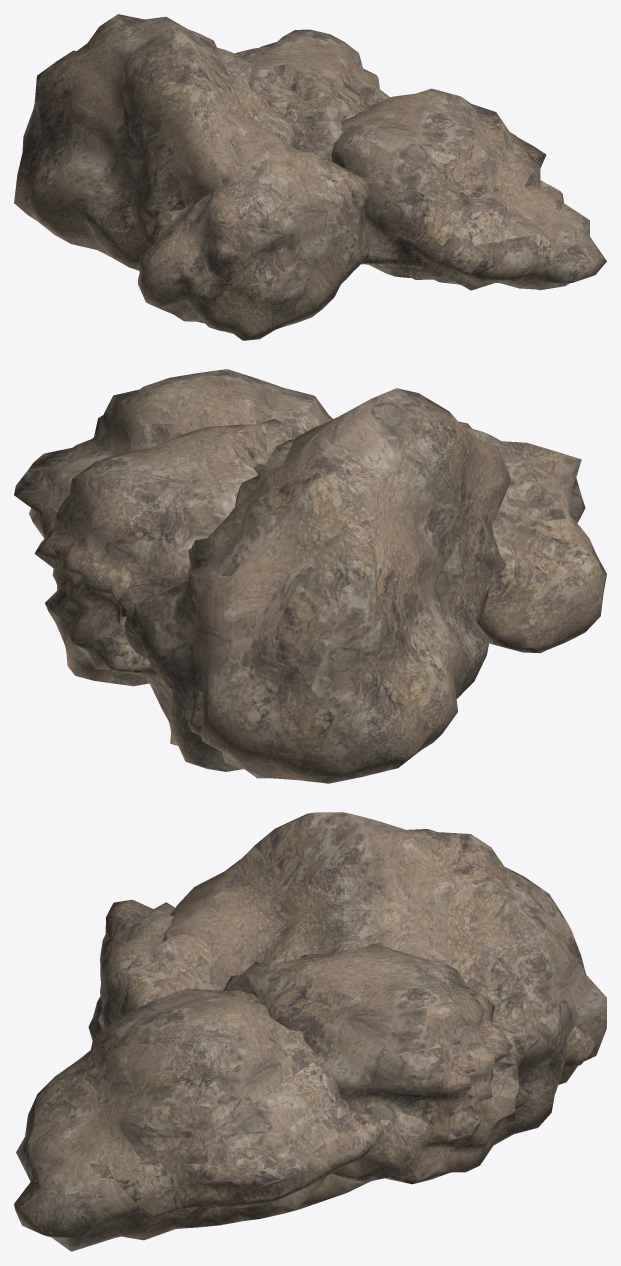
File: rock_outcrop.glb
3 views of the same model, one above another, from view 1: azimuth 30°, elevation 25°; view 2: azimuth 150°, elevation 25°; view 3: azimuth 270°, elevation 25° (orthographic). The views are drawn at different scales.
Visible parts, largest first — view 1: rock_outcrop; view 2: rock_outcrop; view 3: rock_outcrop.
Part boxes in pixels (bbox=[...]): rock_outcrop: bbox=[14, 14, 606, 340]; rock_outcrop: bbox=[14, 369, 606, 783]; rock_outcrop: bbox=[14, 812, 606, 1251].
Size of the model in its own units: 4.78 by 2.76 by 5.
Materials: 1 (1 with a texture image).
